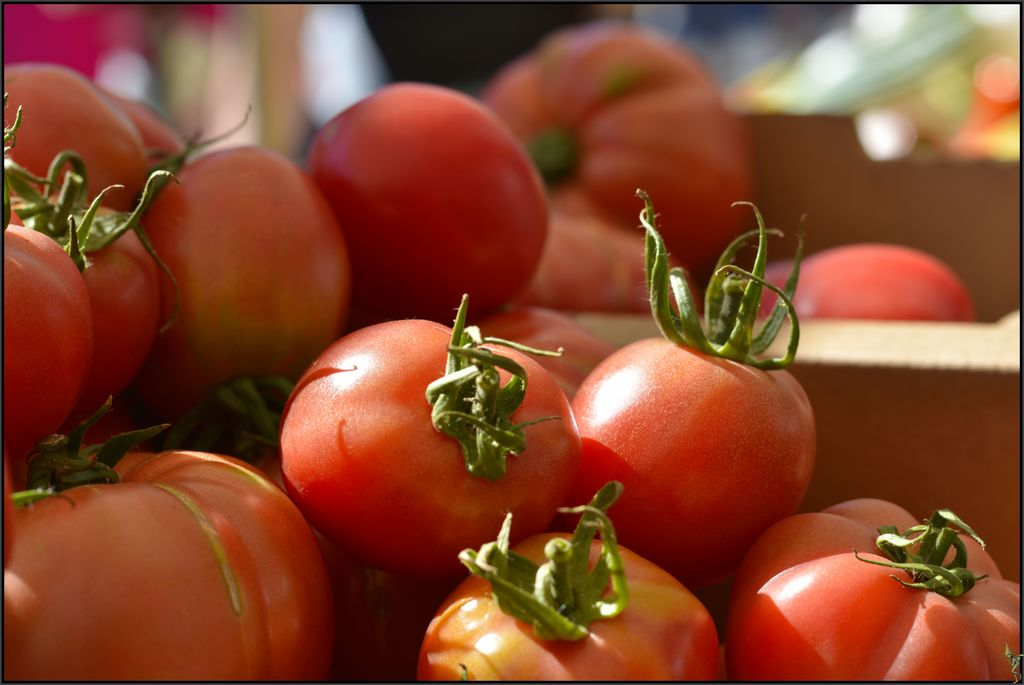Tomato: (566, 180, 818, 587), (277, 296, 583, 580), (145, 100, 351, 447), (419, 488, 716, 683), (309, 81, 547, 322), (728, 496, 1015, 677), (5, 152, 184, 432), (0, 158, 92, 461), (2, 63, 151, 209)
